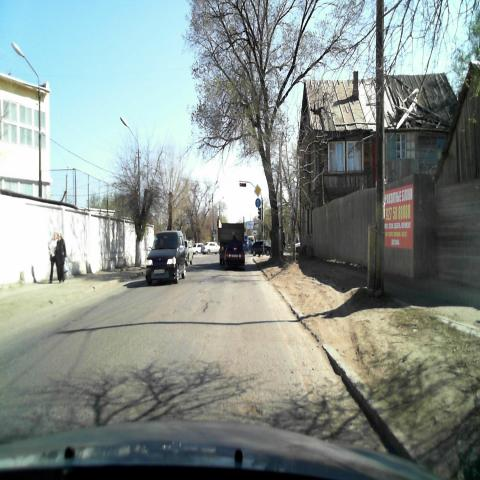2_1: (254, 184, 262, 198)
4_1_1: (255, 196, 261, 208)
